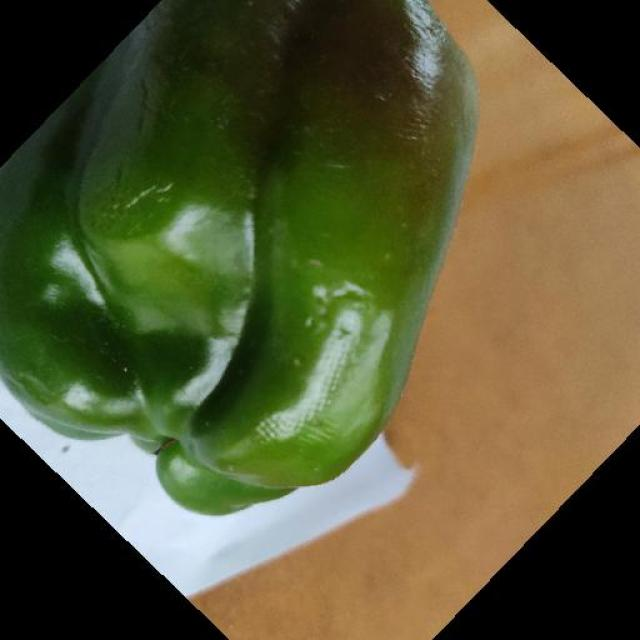Stale_Capsicum: (0, 0, 466, 412)
